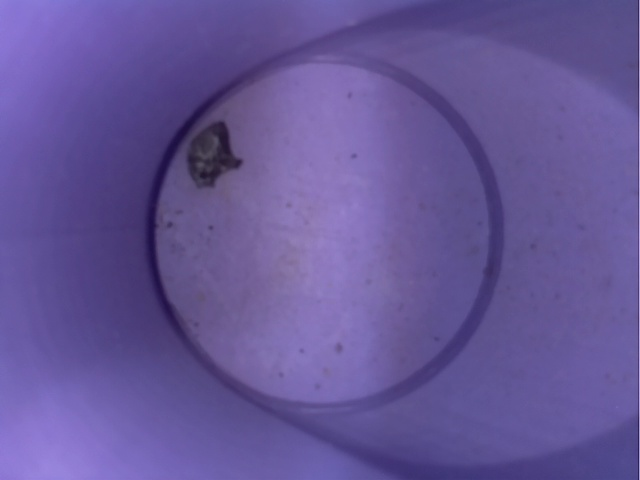ecorce: (174, 111, 272, 198)
